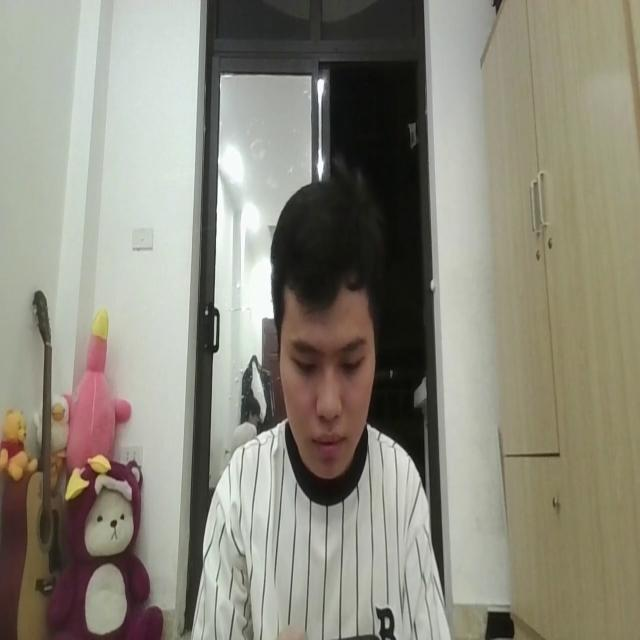student: (195, 166, 454, 640)
